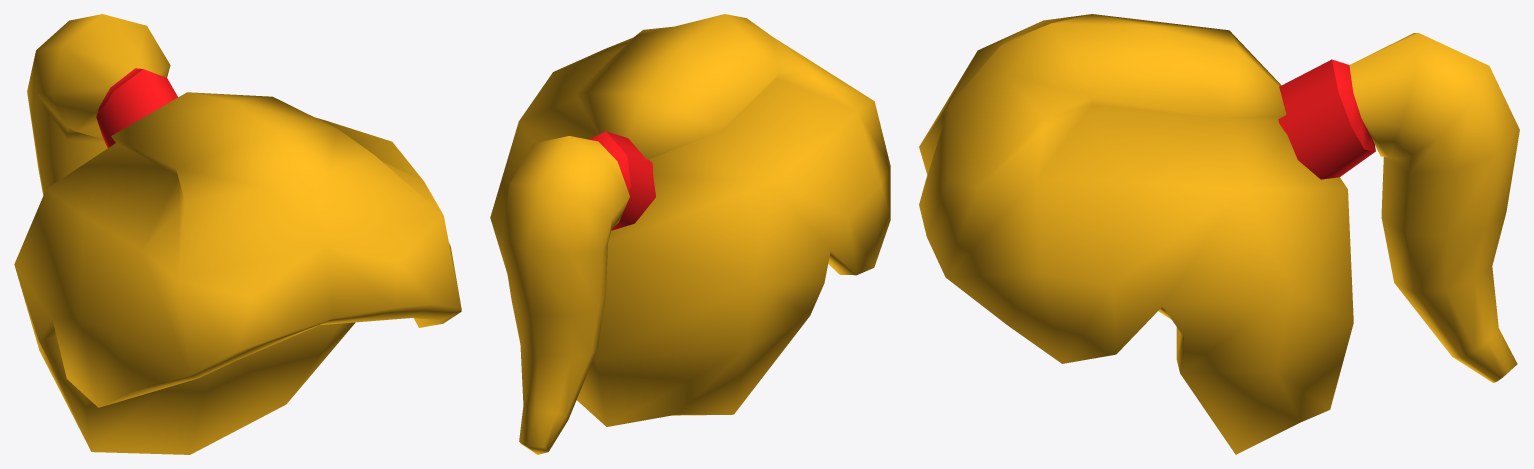
Rendered from Hair_01.fbx.
3 renders of one model, left to right at view 1: azimuth 30°, elevation 25°; view 2: azimuth 150°, elevation 25°; view 3: azimuth 270°, elevation 25°, orthographic. The views are drawn at different scales.
Parts seen in each view (by area): view 1: Hair_01; view 2: Hair_01; view 3: Hair_01.
Part boxes in pixels (x1,y1,x2,y2): Hair_01: (14,14,461,454); Hair_01: (490,14,890,454); Hair_01: (919,14,1519,454).
Bounding box in the file's own units: 79 × 81.56 × 109.
